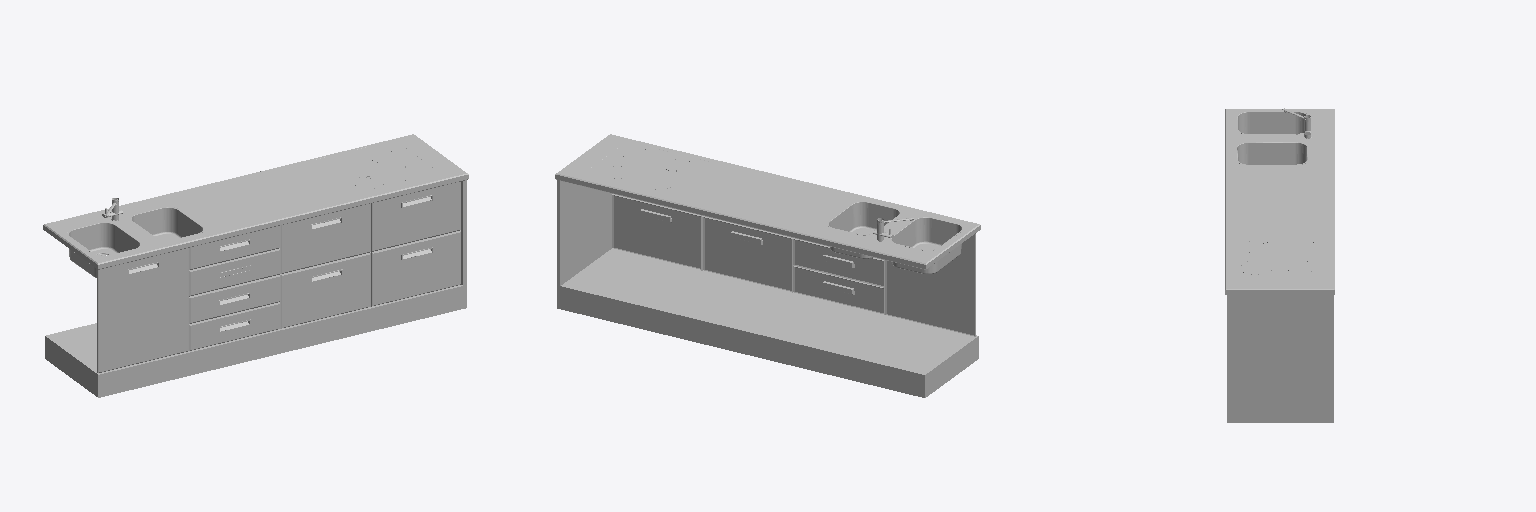
The model's file is kitchen.obj.
3 renders of one model, left to right at view 1: azimuth 30°, elevation 25°; view 2: azimuth 150°, elevation 25°; view 3: azimuth 270°, elevation 25°, orthographic.
Visible parts, largest first — view 1: cook_006_13; view 2: cook_006_13; view 3: cook_006_13.
Part boxes in pixels (bbox=[...]): cook_006_13: bbox=[43, 134, 468, 397]; cook_006_13: bbox=[555, 134, 980, 397]; cook_006_13: bbox=[1225, 108, 1334, 422].
Size of the model in its own units: 25.14 by 10.06 by 6.41.